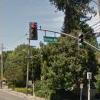Traffic light: (22, 18, 39, 49)
